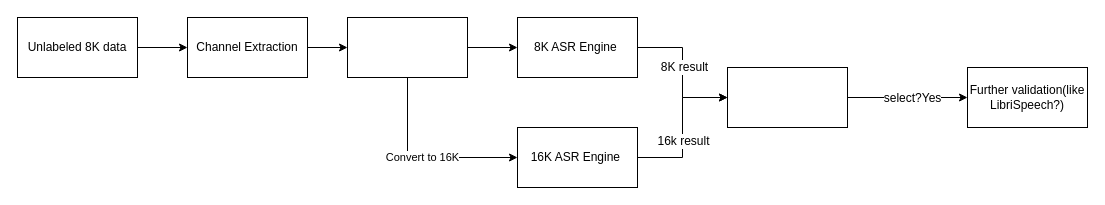
Image size: 1105x205. Some labels were removed from this diagram. Here are the shapes that lost their labels. From the top down, the centre of each, then its label:
At (x=407, y=47): "VAD Segments".
At (x=787, y=97): "Selection/Rover Metric".
